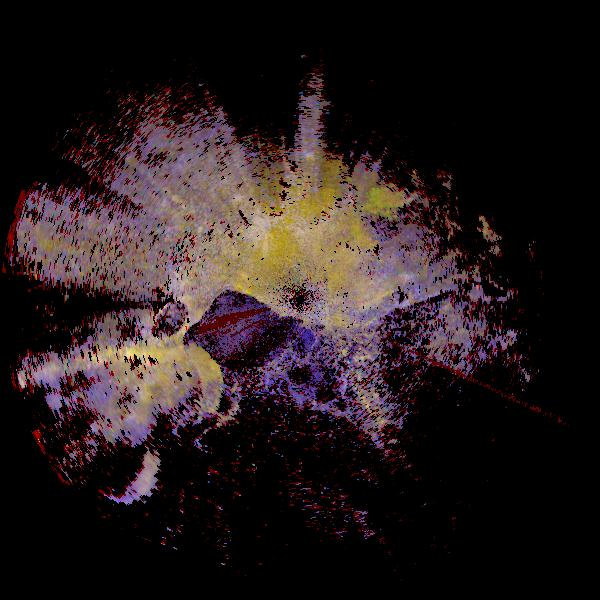roost: (76, 421, 169, 514), (319, 237, 406, 324), (245, 210, 329, 294), (86, 359, 164, 437), (155, 346, 230, 421)
